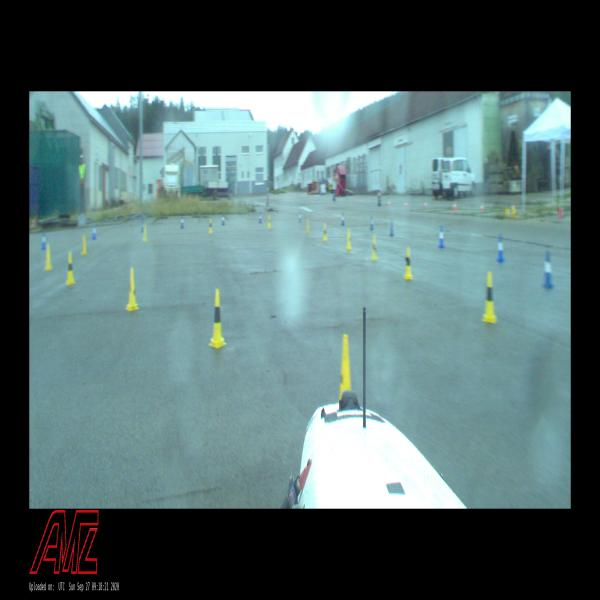blue_cone: (542, 250, 554, 289), (497, 235, 504, 262), (438, 227, 445, 248), (92, 224, 97, 240), (42, 231, 46, 249), (369, 213, 373, 229), (180, 215, 184, 229), (220, 214, 225, 225), (341, 212, 345, 225)
yellow_cone: (208, 289, 226, 348), (338, 335, 352, 403), (482, 271, 497, 323), (125, 267, 138, 311), (66, 252, 76, 284), (404, 247, 412, 279), (45, 245, 52, 270), (371, 236, 378, 260), (346, 230, 352, 251), (81, 234, 87, 254), (143, 223, 147, 242), (323, 224, 327, 241), (208, 218, 212, 234), (268, 216, 271, 228)
